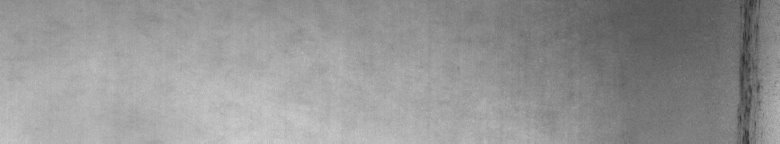ka: (732, 4, 767, 136)
